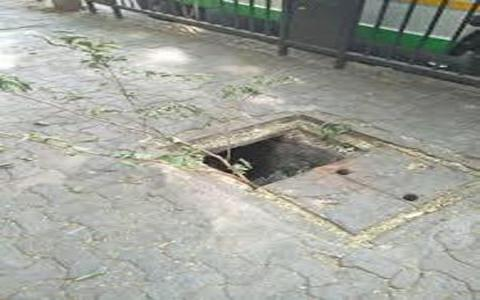open manhole: (186, 111, 386, 192)
